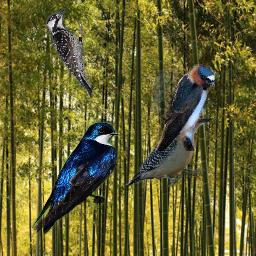Swallow: (31, 122, 119, 235), (152, 64, 215, 151)
Woodpecker: (125, 115, 215, 187), (46, 8, 93, 97)
